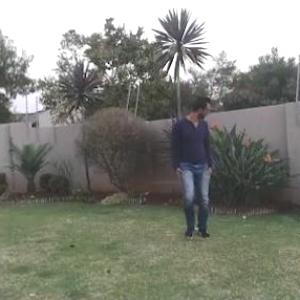follow: (168, 87, 219, 248)
